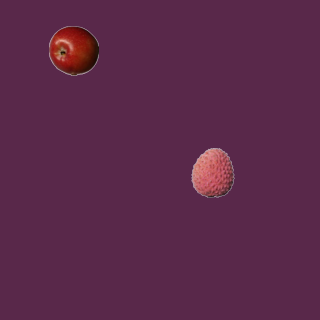Apple Braeburn: (48, 25, 98, 75)
Lychee: (187, 147, 237, 197)
